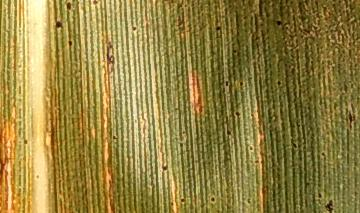tarspot: (343, 105, 357, 133), (49, 17, 66, 31), (322, 195, 336, 212), (108, 130, 122, 147), (220, 126, 235, 141), (61, 1, 78, 13), (286, 67, 301, 80), (220, 76, 232, 91), (231, 108, 245, 120), (159, 162, 171, 175), (236, 76, 246, 91), (245, 142, 257, 154), (18, 134, 29, 147), (271, 17, 284, 28), (288, 138, 299, 151), (64, 37, 76, 48), (300, 177, 312, 188), (207, 193, 218, 204), (230, 45, 241, 56), (275, 77, 284, 89), (317, 151, 329, 160), (84, 1, 105, 6), (129, 22, 138, 33), (212, 22, 221, 32), (176, 195, 187, 203)
